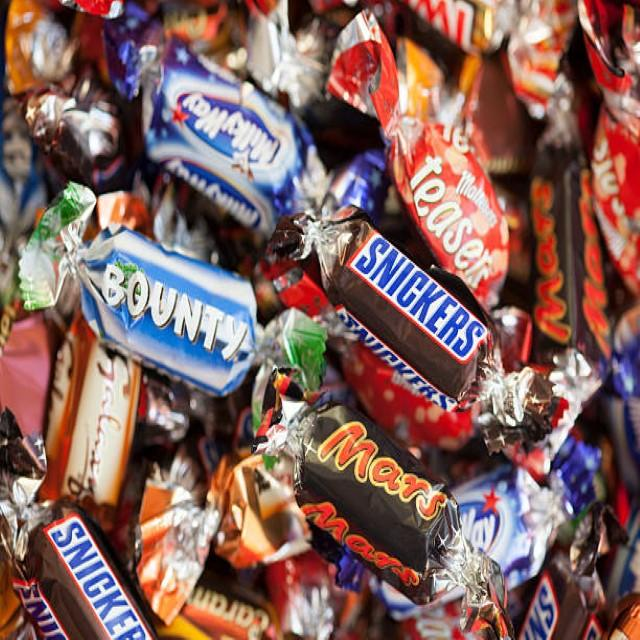mars_chocolate: (300, 437, 477, 568)
snickers_chocolate: (348, 215, 485, 368), (46, 501, 180, 640)
